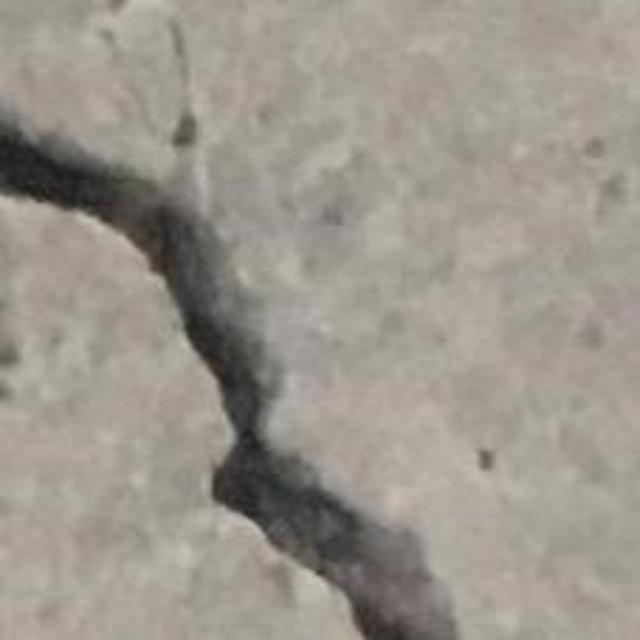crack: (0, 26, 459, 639)
